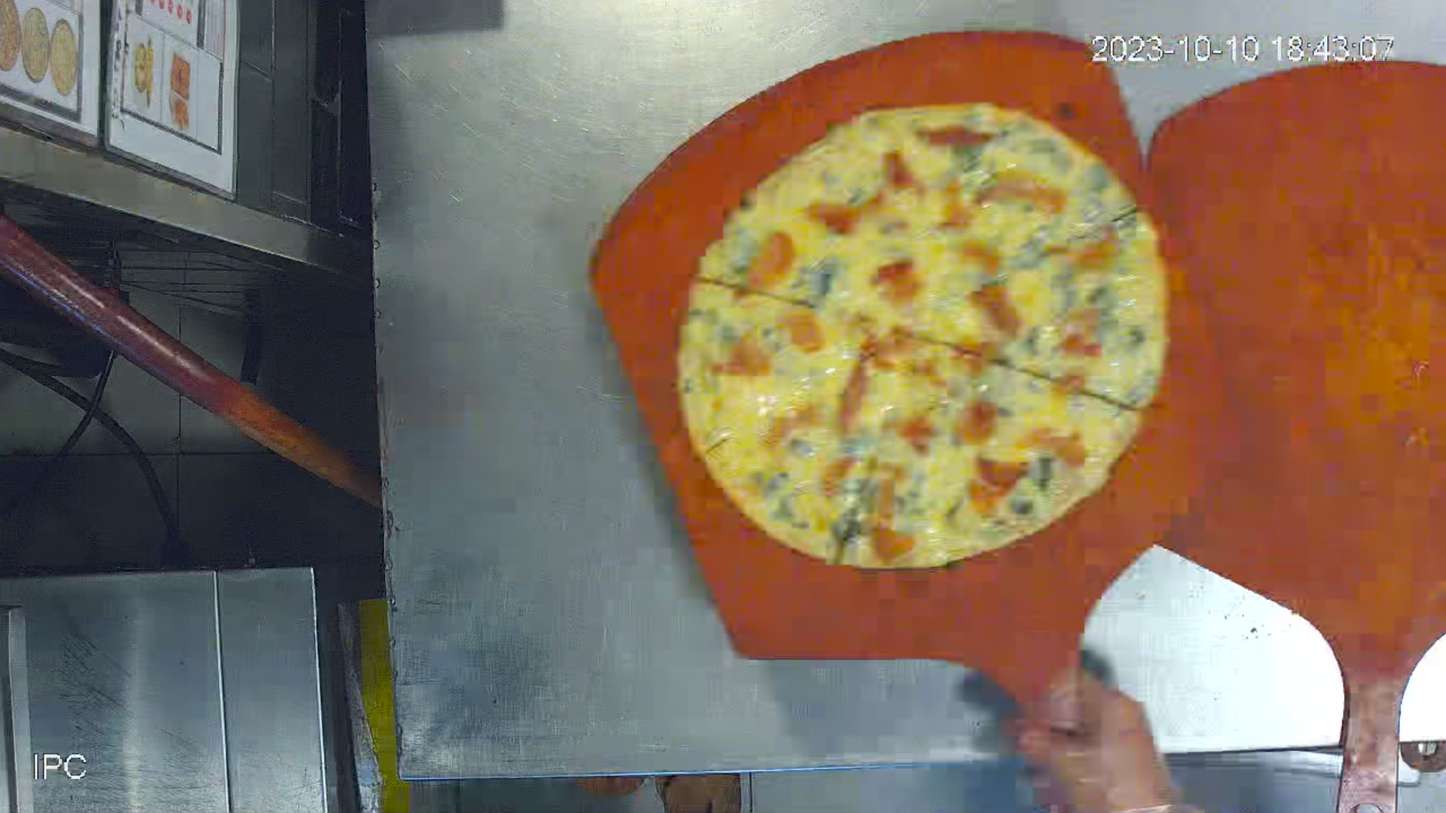bianca: (670, 99, 1184, 574)
